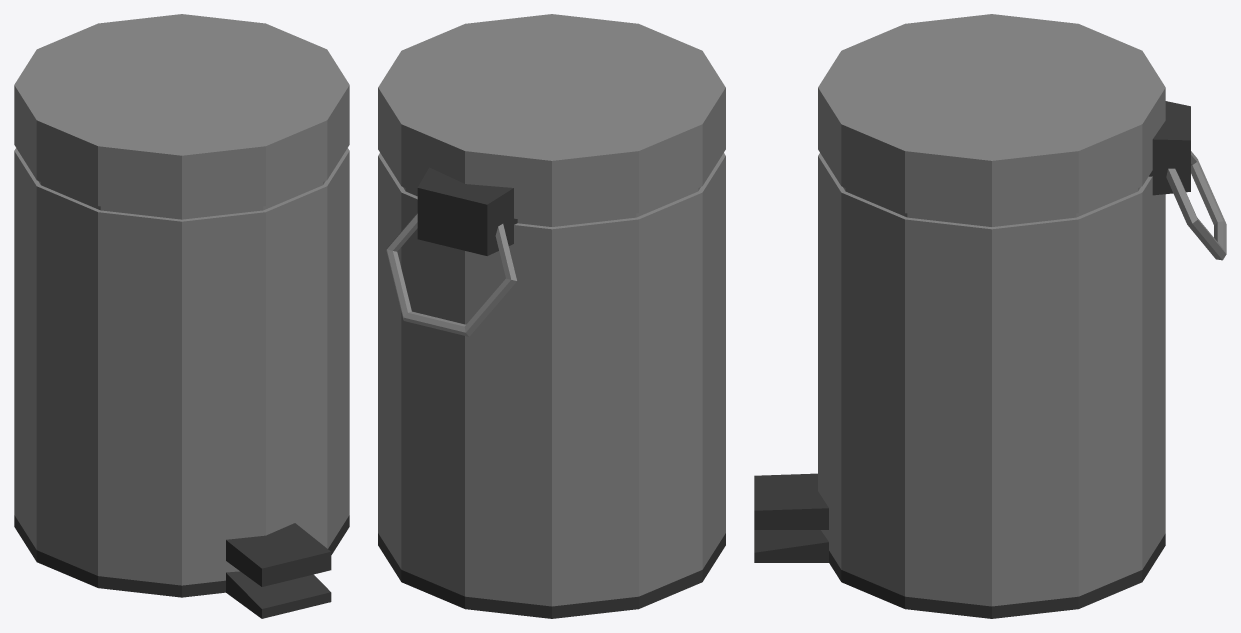
File: Trash Bin.glb
3 renders of one model, left to right at view 1: azimuth 30°, elevation 25°; view 2: azimuth 150°, elevation 25°; view 3: azimuth 270°, elevation 25°, orthographic. The views are drawn at different scales.
Visible parts, largest first — view 1: Trashbin; view 2: Trashbin; view 3: Trashbin.
Part boxes in pixels (bbox=[...]): Trashbin: bbox=[14, 14, 349, 618]; Trashbin: bbox=[378, 14, 725, 618]; Trashbin: bbox=[754, 14, 1226, 618].
Bounding box in the file's own units: 0.2043 × 0.2969 × 0.2774.
1 material, 1 textured.
